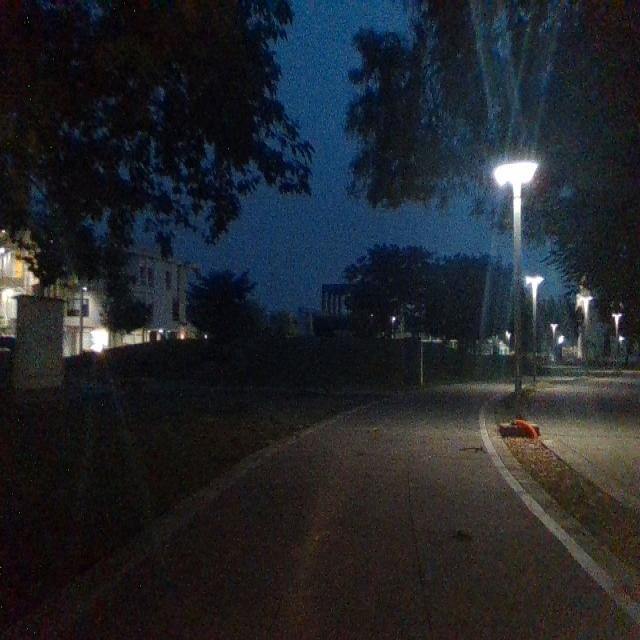lane: (72, 387, 638, 640)
